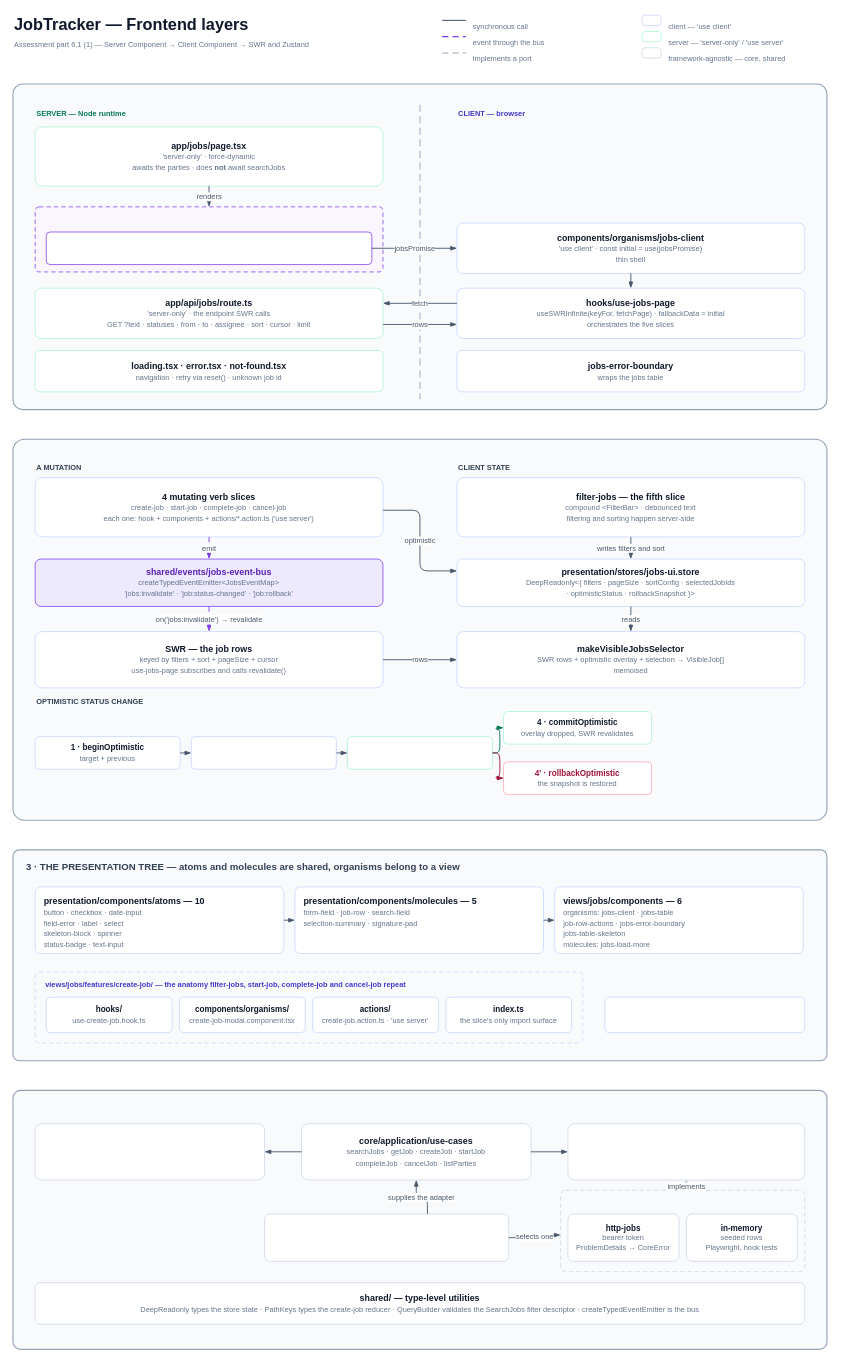
Some shapes in this 858 by 1362 pixel diagram are drawn without their labels. Here are the shapes that lost their labels. From the top down, the box of each, then its label:
(34, 206, 383, 272): <Suspense fallback={<JobsTableSkeleton />}>
(46, 231, 372, 265): <JobsClient jobsPromise={jobsPromise} />
(12, 83, 827, 410): 1 · SERVER AND CLIENT BOUNDARY
(12, 438, 827, 821): 2 · THE VIEW — slices, the event bus, and state ownership
(191, 736, 336, 769): 2 · the selector renders immediately
(347, 736, 492, 769): 3 · the action runs 'use server'
(604, 996, 805, 1033): views/jobs/index.ts the view's barrel — what app/jobs/page.tsx imports
(34, 1123, 265, 1180): core/domain/job JobState union · transitionJob allowedActions · getJobSummary
(567, 1123, 805, 1180): core/application/ports/jobs.port JobsPort
(264, 1213, 509, 1261): core/di/container picks the adapter from JOBTRACKER_API_URL
(12, 1090, 827, 1350): 4 · CORE, INFRASTRUCTURE AND SHARED
(560, 1190, 805, 1272): infrastructure/adapters — one is selected at startup
